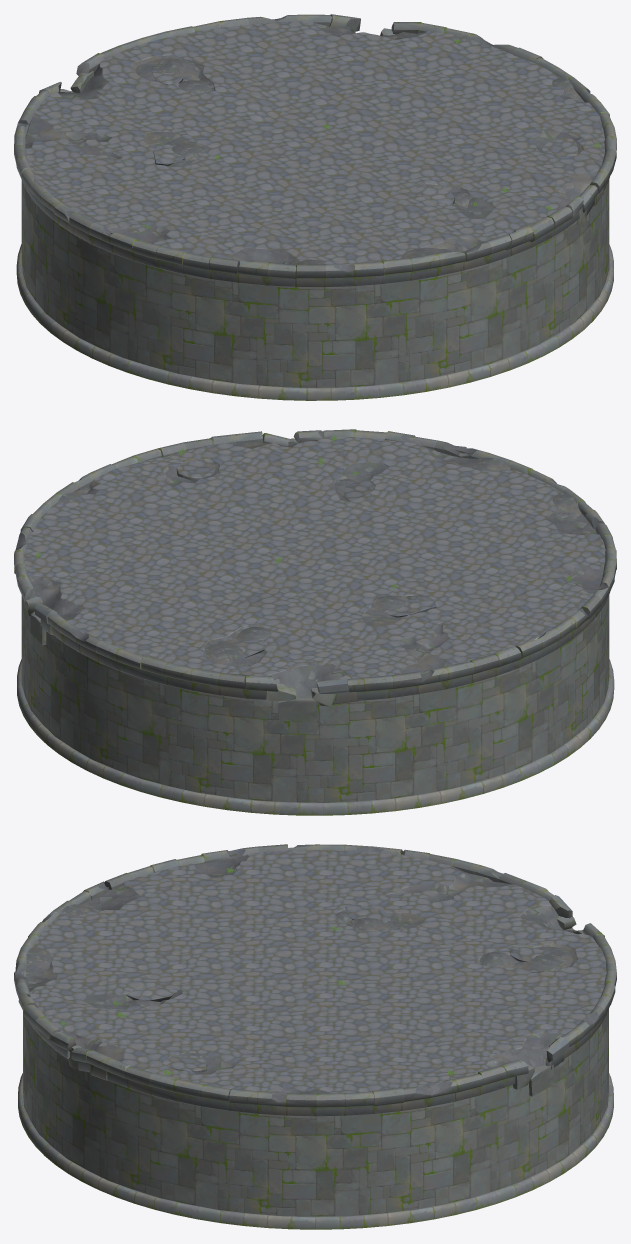
The model's file is Area_MdBuild_SdPlatform12_Group.fbx.
The picture shows the model from 3 angles, top to bottom: view 1: azimuth 30°, elevation 25°; view 2: azimuth 150°, elevation 25°; view 3: azimuth 270°, elevation 25°; orthographic projection.
Parts seen in each view (by area): view 1: Area_MdBuild_SdPlatform12_Lod0; view 2: Area_MdBuild_SdPlatform12_Lod0; view 3: Area_MdBuild_SdPlatform12_Lod0.
Part boxes in pixels (x1,y1,x2,y2): Area_MdBuild_SdPlatform12_Lod0: [14, 14, 616, 400]; Area_MdBuild_SdPlatform12_Lod0: [14, 429, 616, 815]; Area_MdBuild_SdPlatform12_Lod0: [14, 844, 616, 1229].
Bounding box in the file's own units: 41.89 × 10.59 × 41.92.
Materials: 6 (6 with a texture image).
